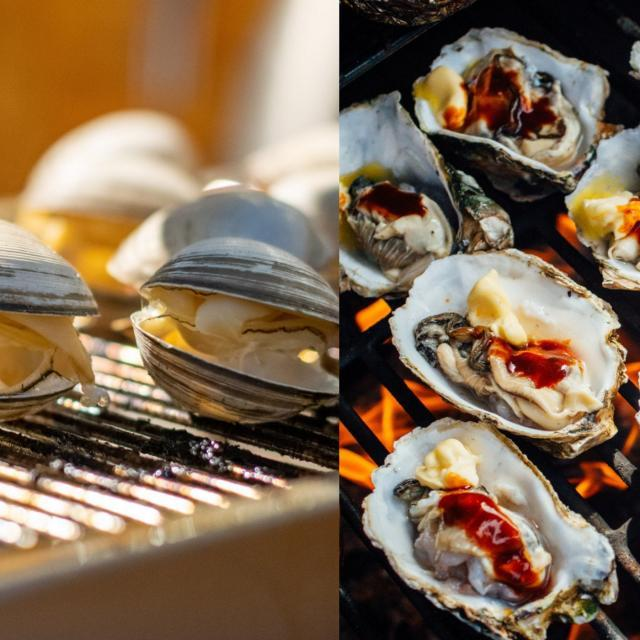Oyster- Indeterminate: (336, 0, 489, 29)
Oyster-Open: (356, 413, 640, 639), (386, 238, 628, 462), (329, 82, 519, 297), (402, 26, 614, 205), (559, 116, 640, 330)
